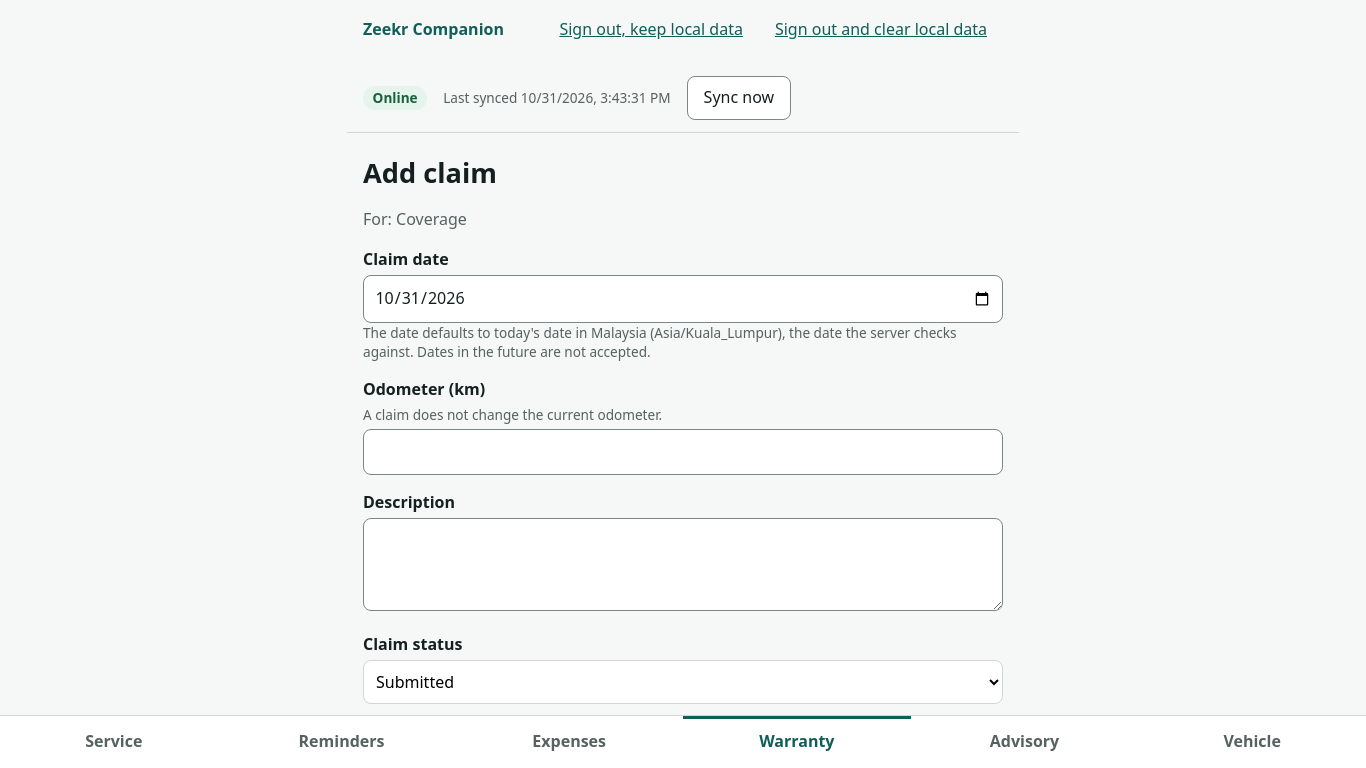
Test: AC-57..60: detail, delete and forms › the claim date hint appears only outside the coverage dates
Type "2026-06-01" into the date field labelled "Claim date" at (683, 299), box [363,275,1003,323]
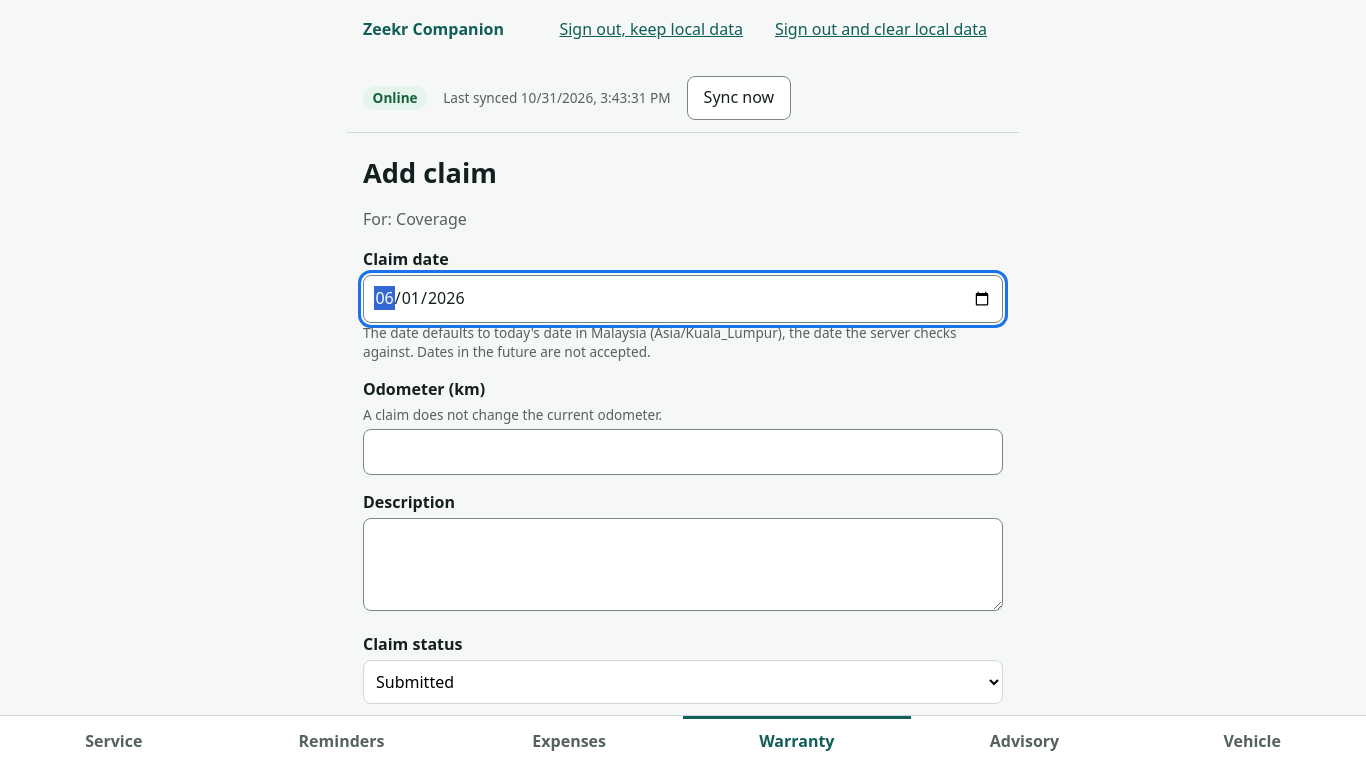
Type "2025-06-01" into the date field labelled "Claim date" at (683, 299), box [363,275,1003,323]
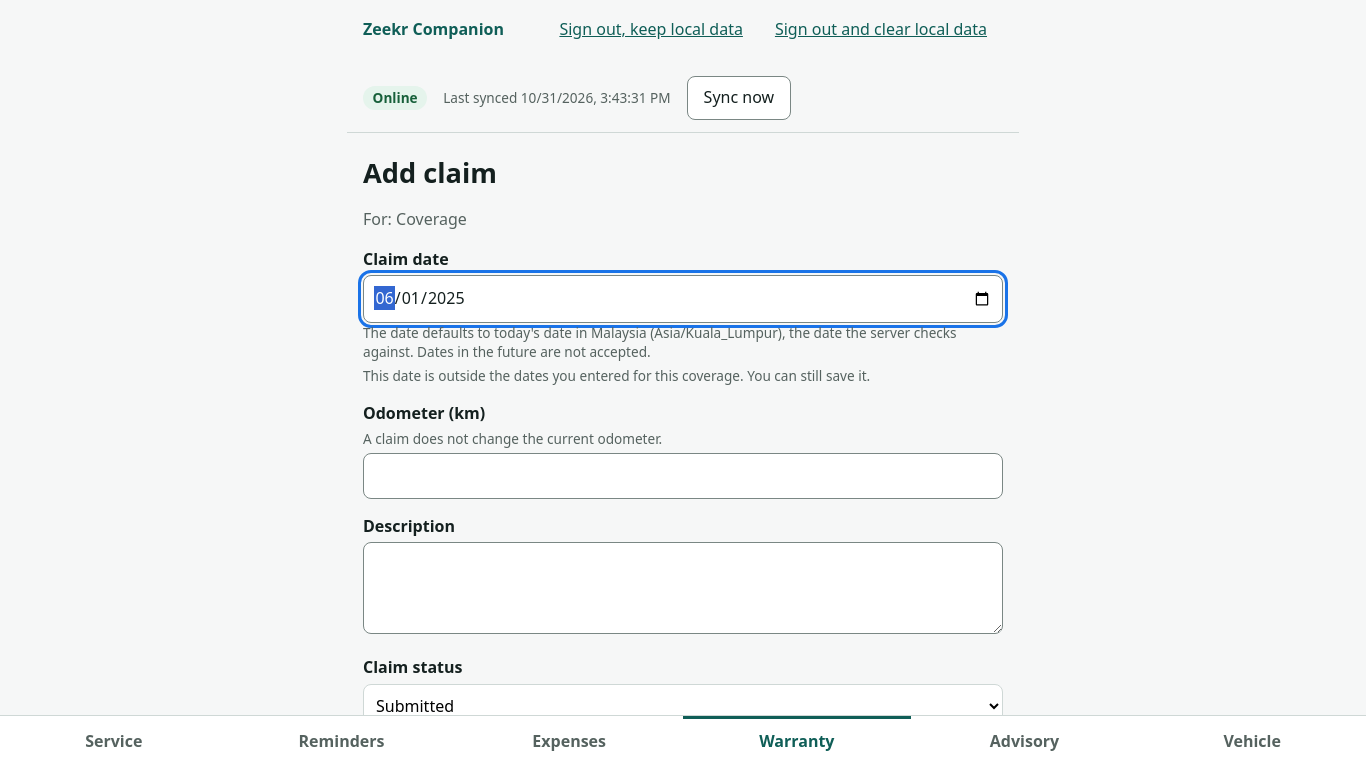
Result: the text with test id "claim-date-hint" is shown at [363,366,870,385]
